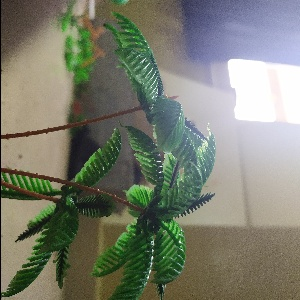plant: (115, 115, 217, 300), (90, 12, 211, 147), (9, 149, 114, 300)
